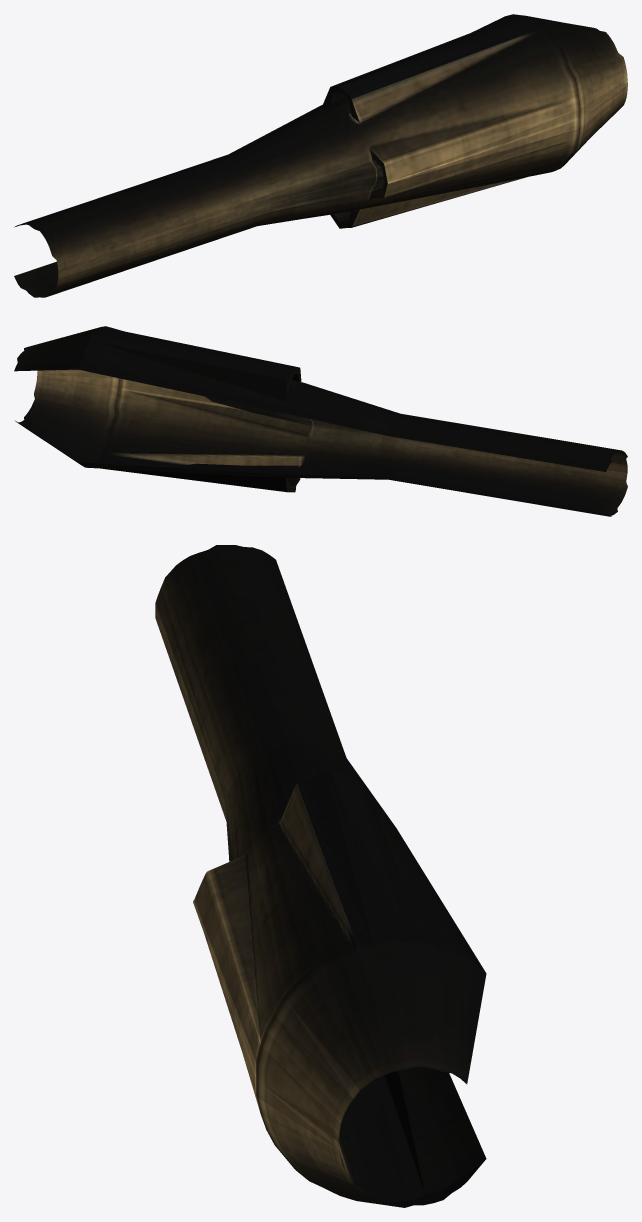
The model's file is v_rock2_0.obj.
3 views of the same model, one above another, from view 1: azimuth 30°, elevation 25°; view 2: azimuth 150°, elevation 25°; view 3: azimuth 270°, elevation 25° (orthographic). The views are drawn at different scales.
Size of the model in its own units: 46.54 by 10.5 by 12.07.
1 material, 1 textured.
